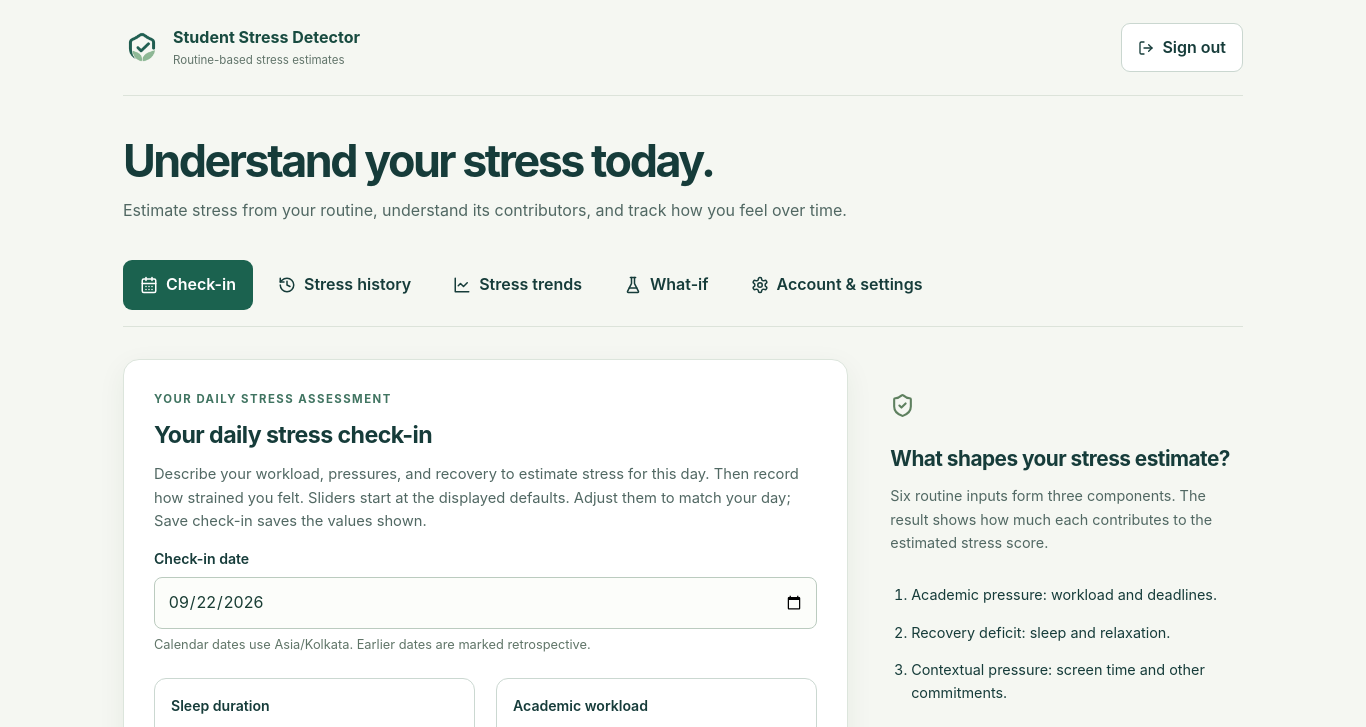
Test case: intentional observations › treats a revoked session as signed out when the logout response is lost
Click the button "Sign out" at (1182, 48), box 1121,22 -> 1243,72
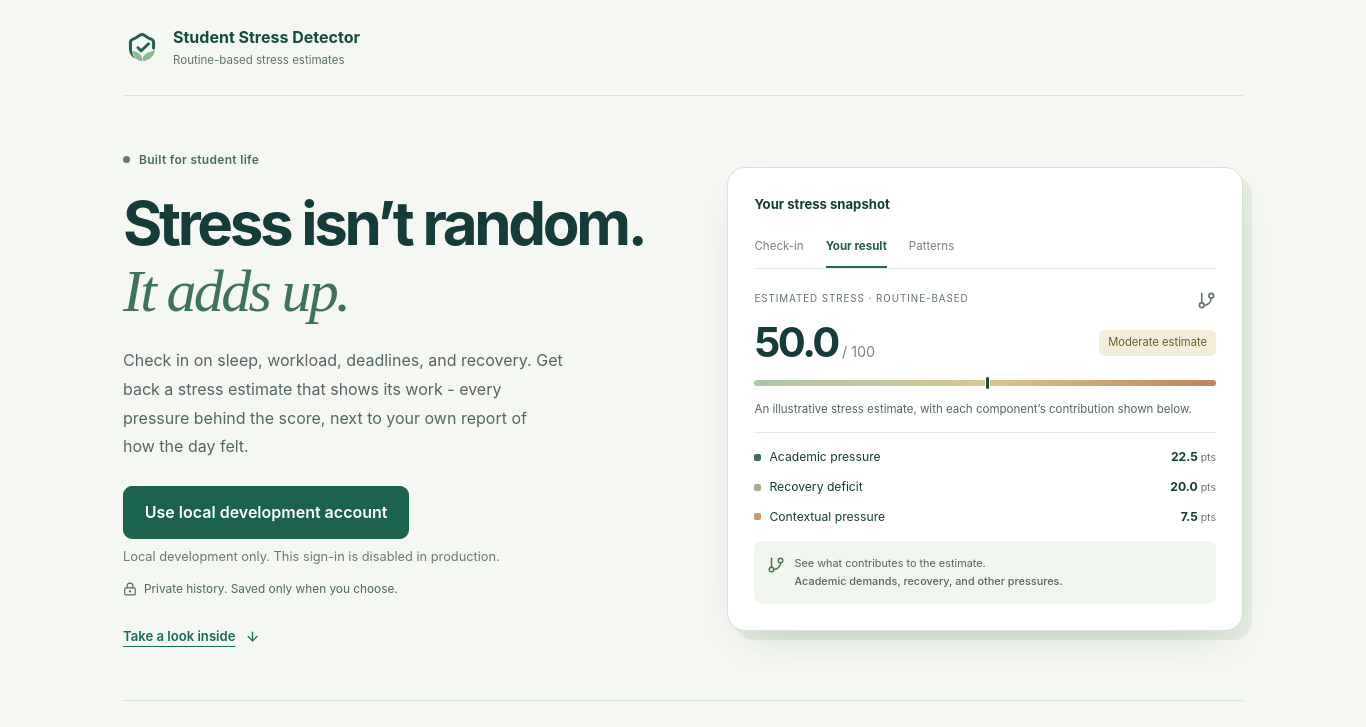
Check: the heading "Stress isn’t random.It adds up." is shown, box 123,191 -> 670,324
